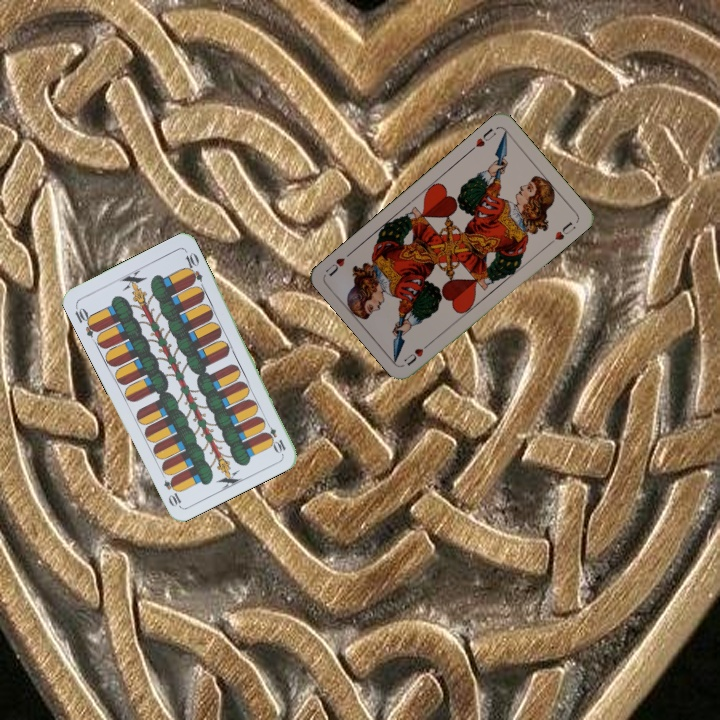E10: (71, 302, 101, 340), (261, 417, 288, 455)
HU: (400, 338, 434, 368), (466, 124, 499, 154)
